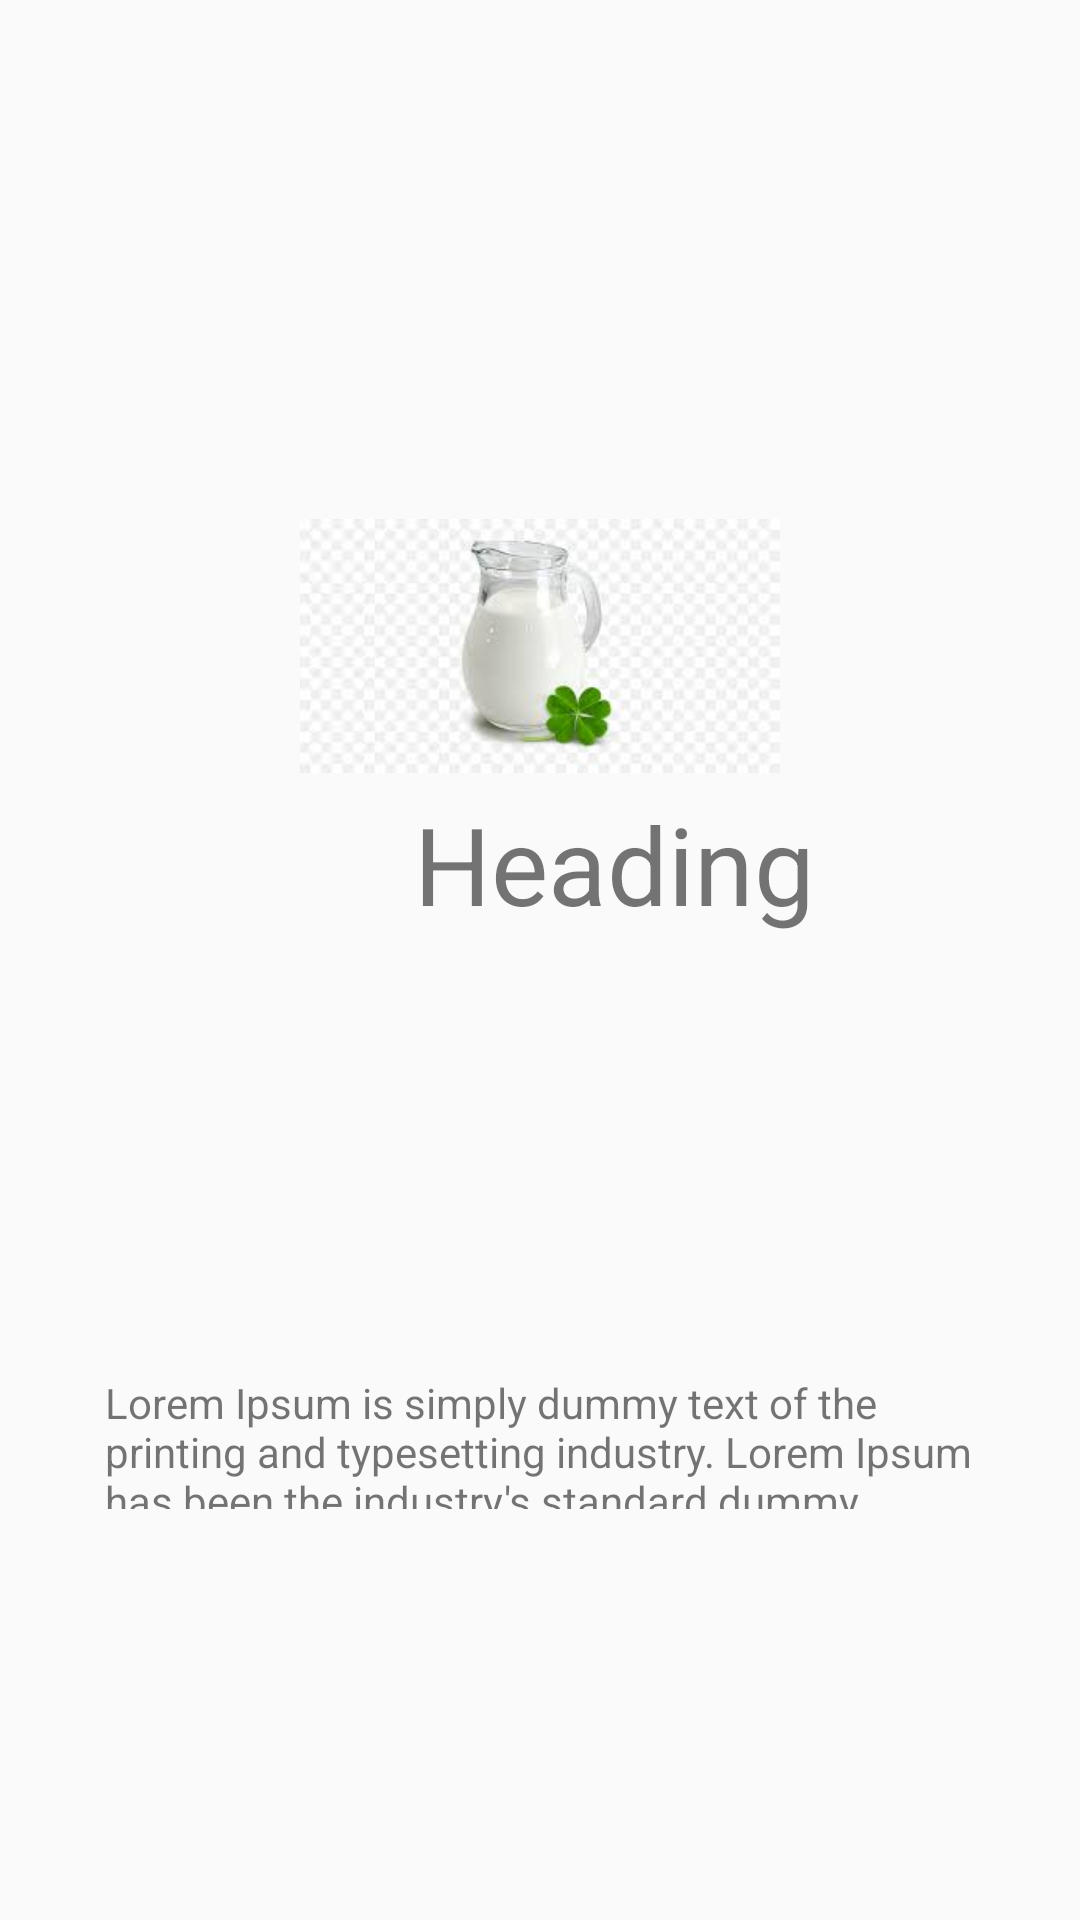

Where icons sit on this 1080 x 1920 app screen, as (x1, y1, x2, y2):
milk: (462, 540, 618, 749)
